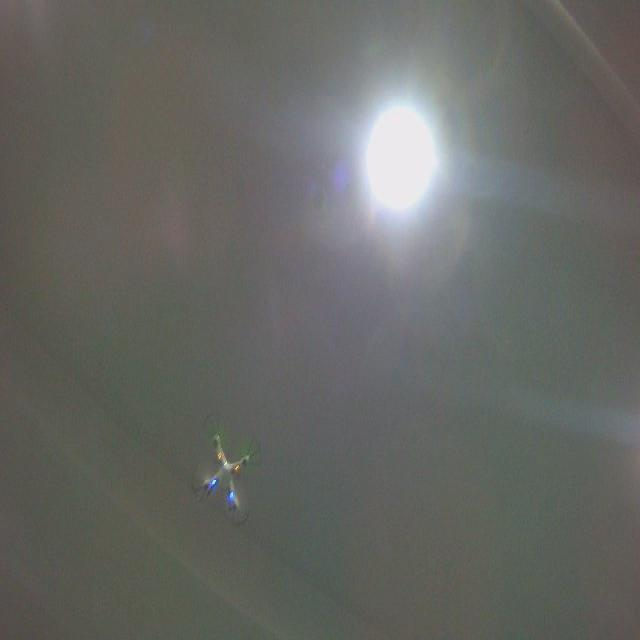drone: (188, 406, 266, 531)
